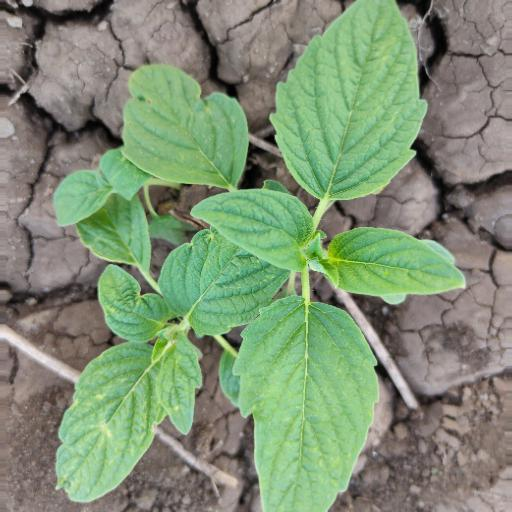crop: (44, 10, 469, 512)
